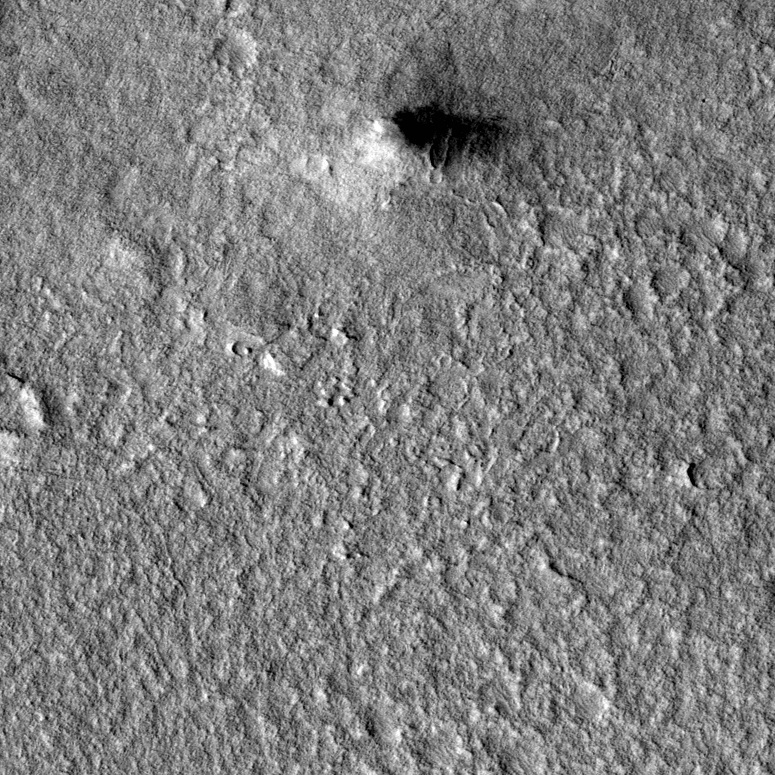dust_devil: (354, 100, 510, 180)
